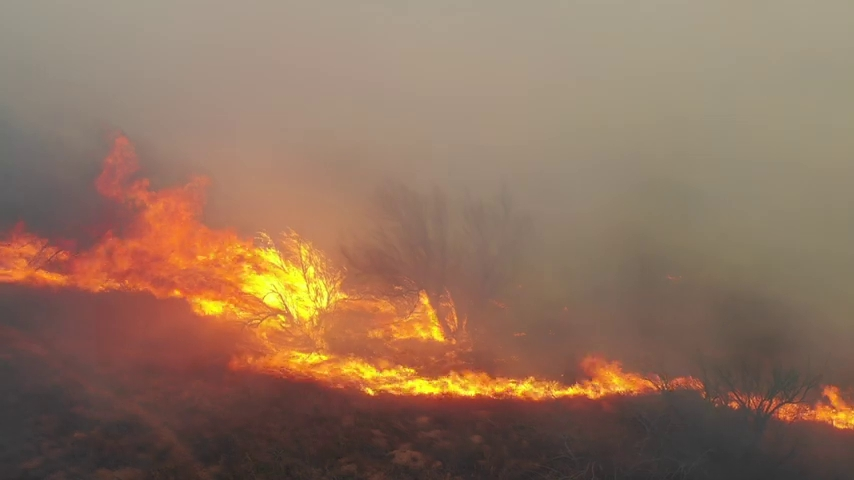forest_fire: (0, 135, 662, 399), (720, 386, 853, 428), (666, 378, 707, 390)
